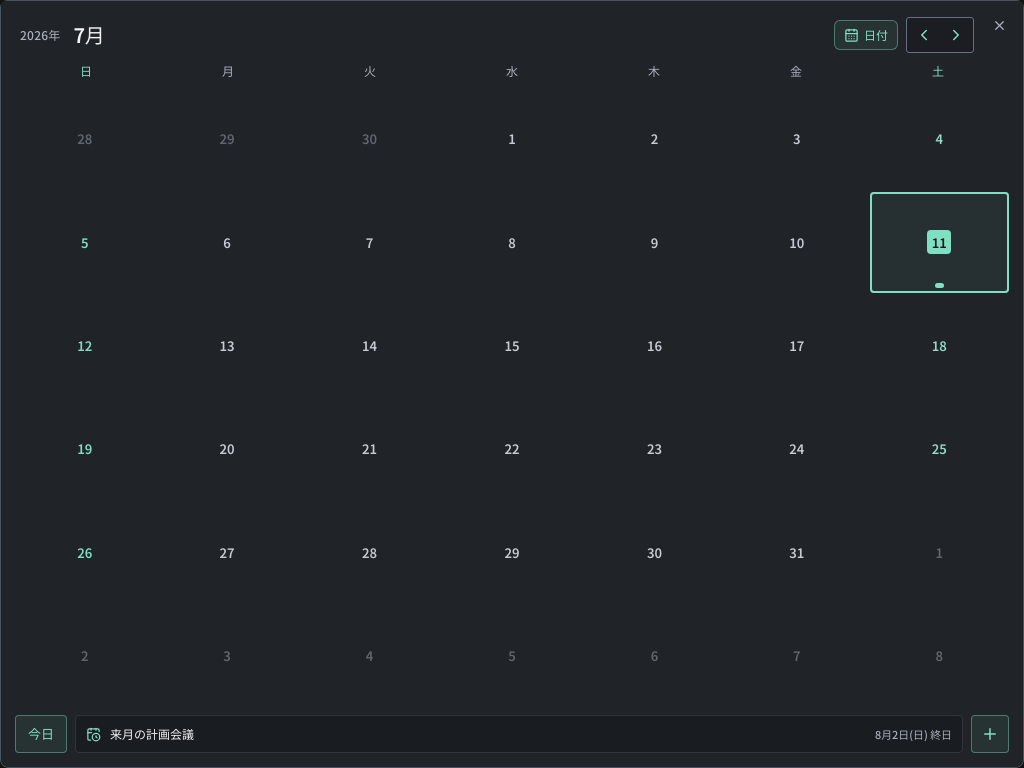
Test case: CalendarOverlay window coordination › returns to the month of the next event after opening its detail
Click the button with aria-label "次の予定、来月の計画会議": (152, 734) [75, 715, 963, 753]
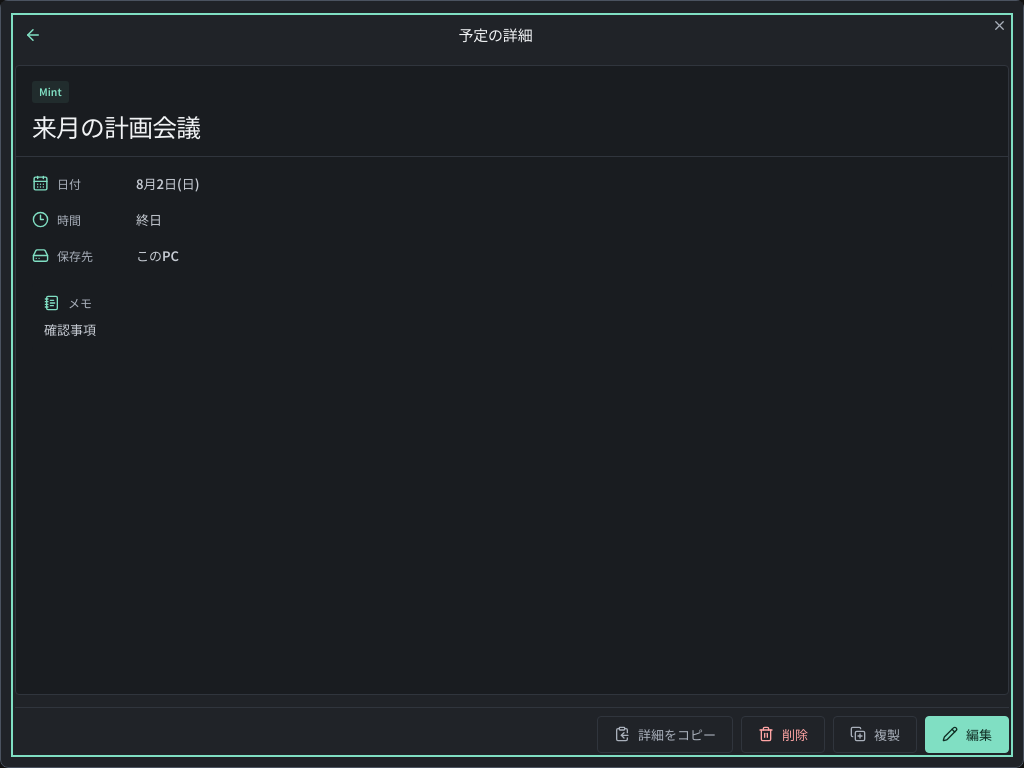
Expected: the heading "来月の計画会議" is shown, [32, 108, 200, 144]
Click the button named "戻る": (33, 35) [17, 19, 49, 51]
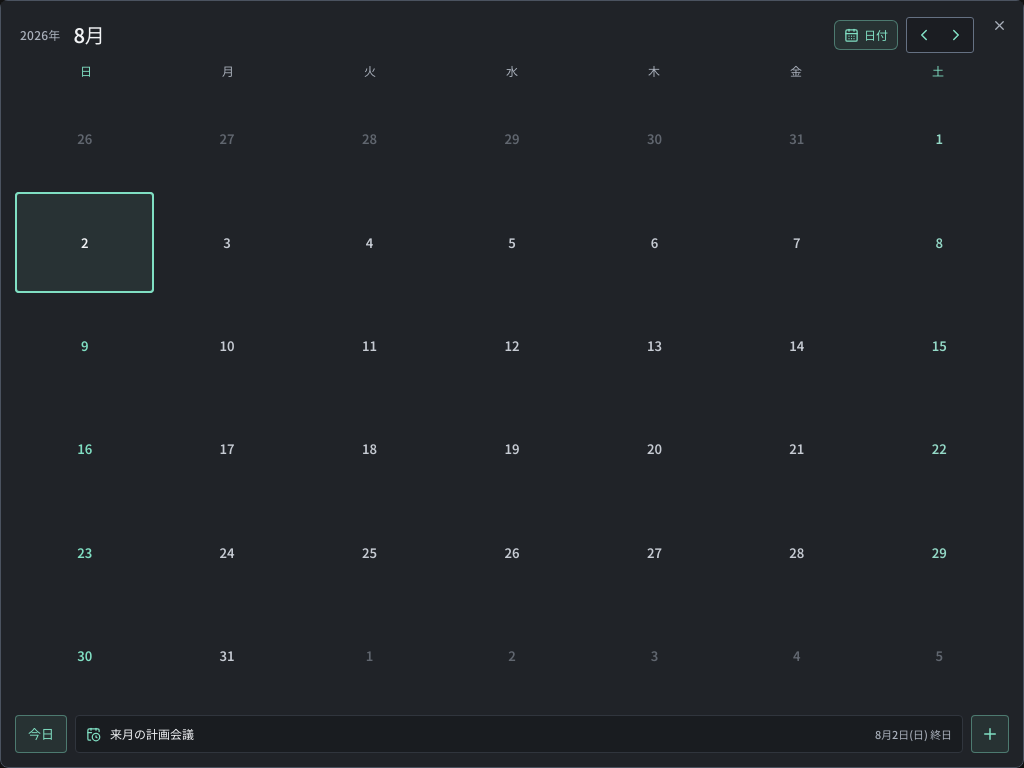
Expected: the heading "2026年 8月" is shown, [20, 20, 104, 49]
